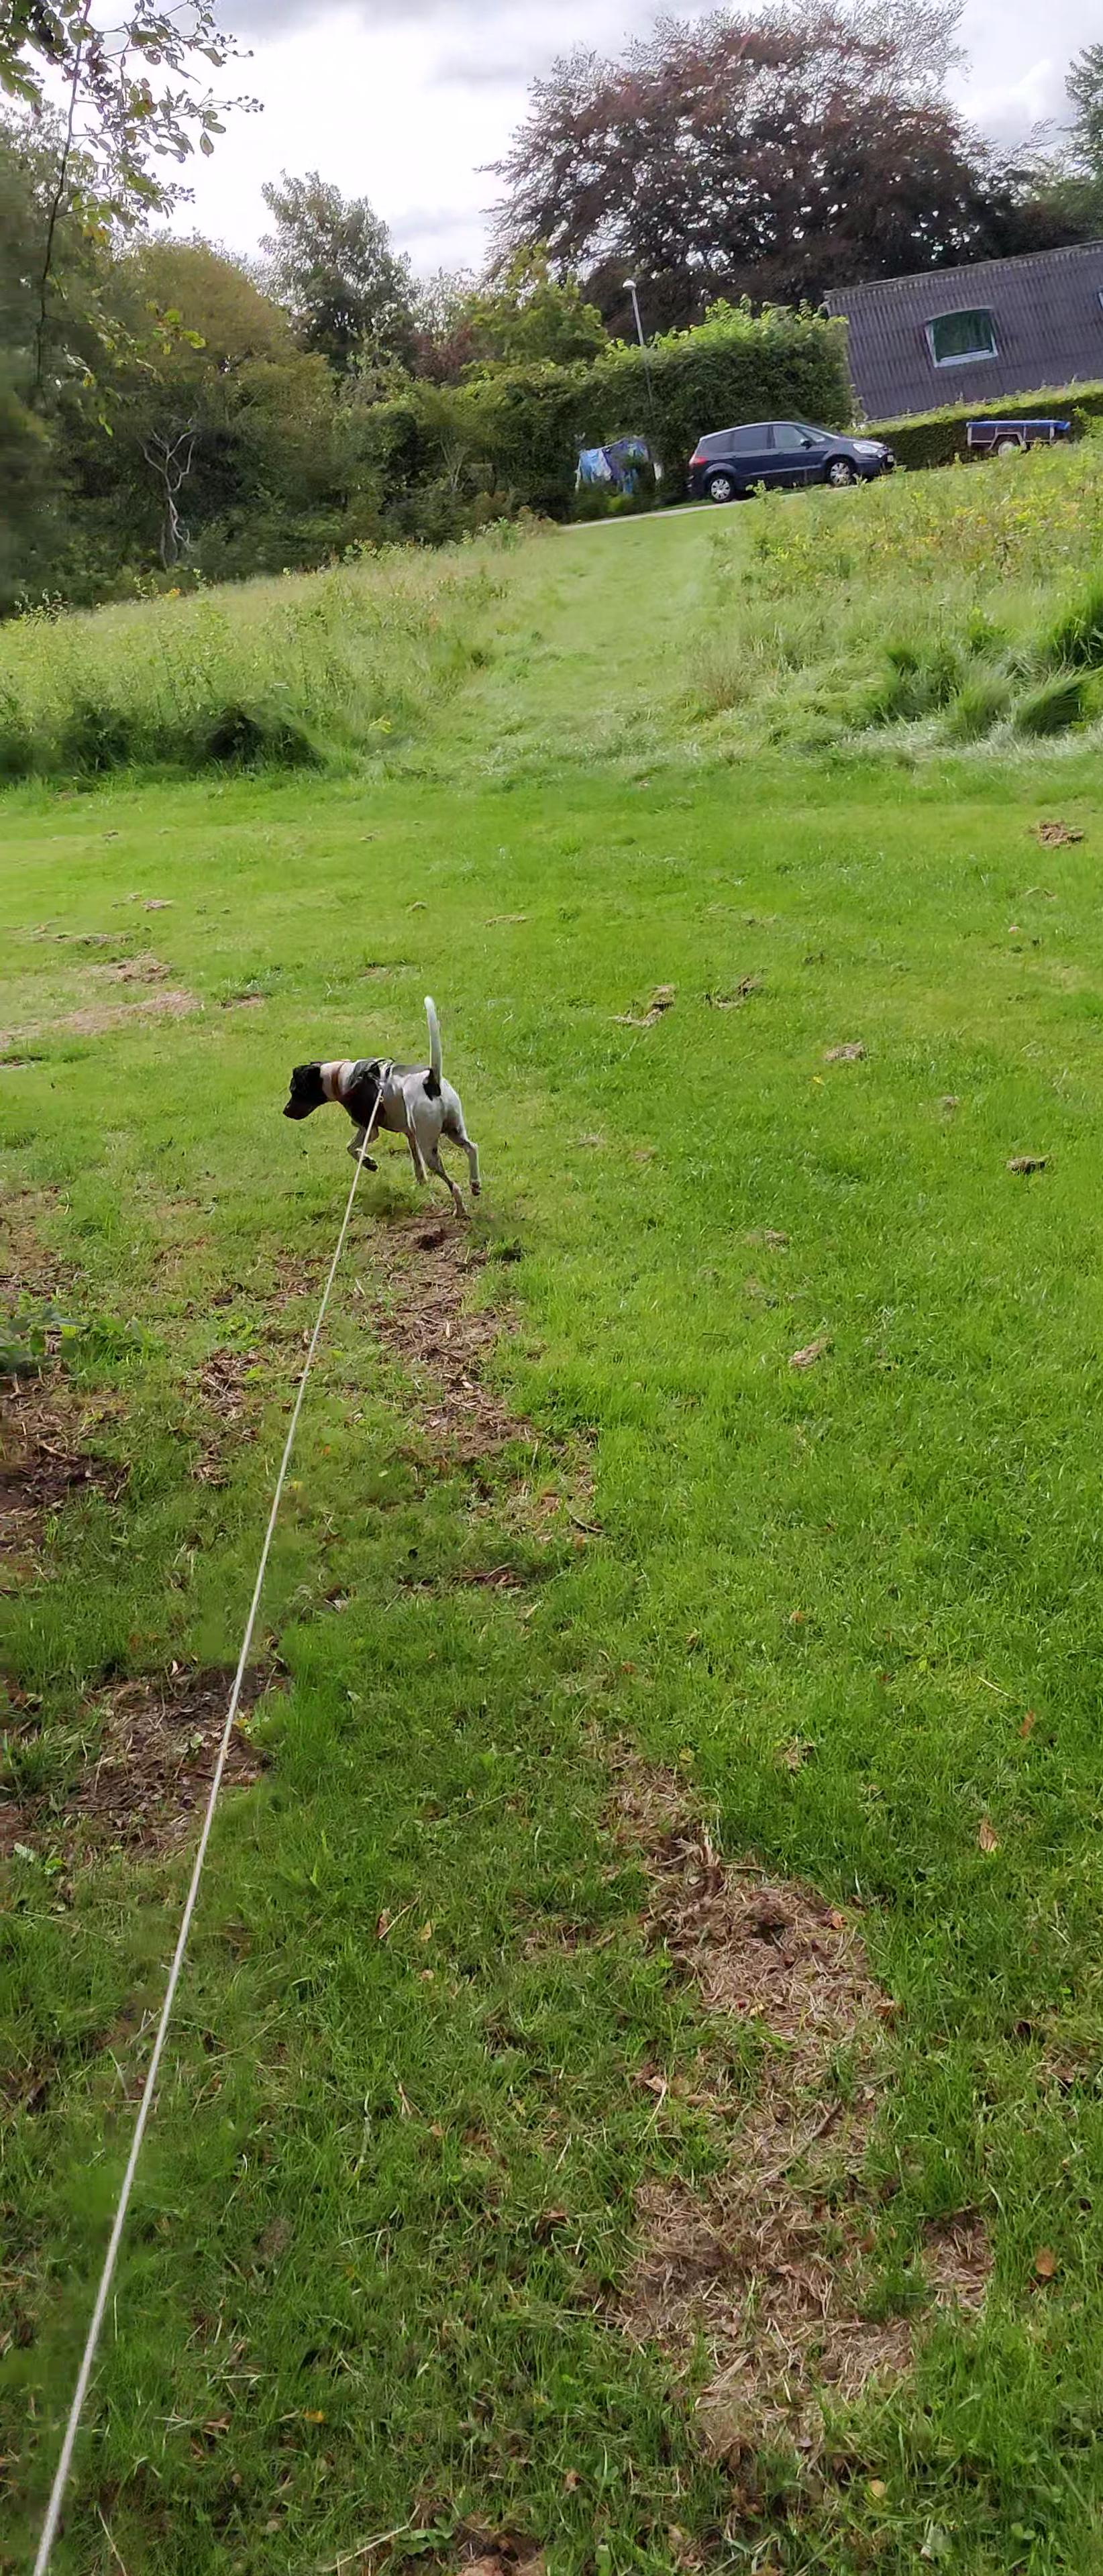Dog: (279, 989, 487, 1222)
